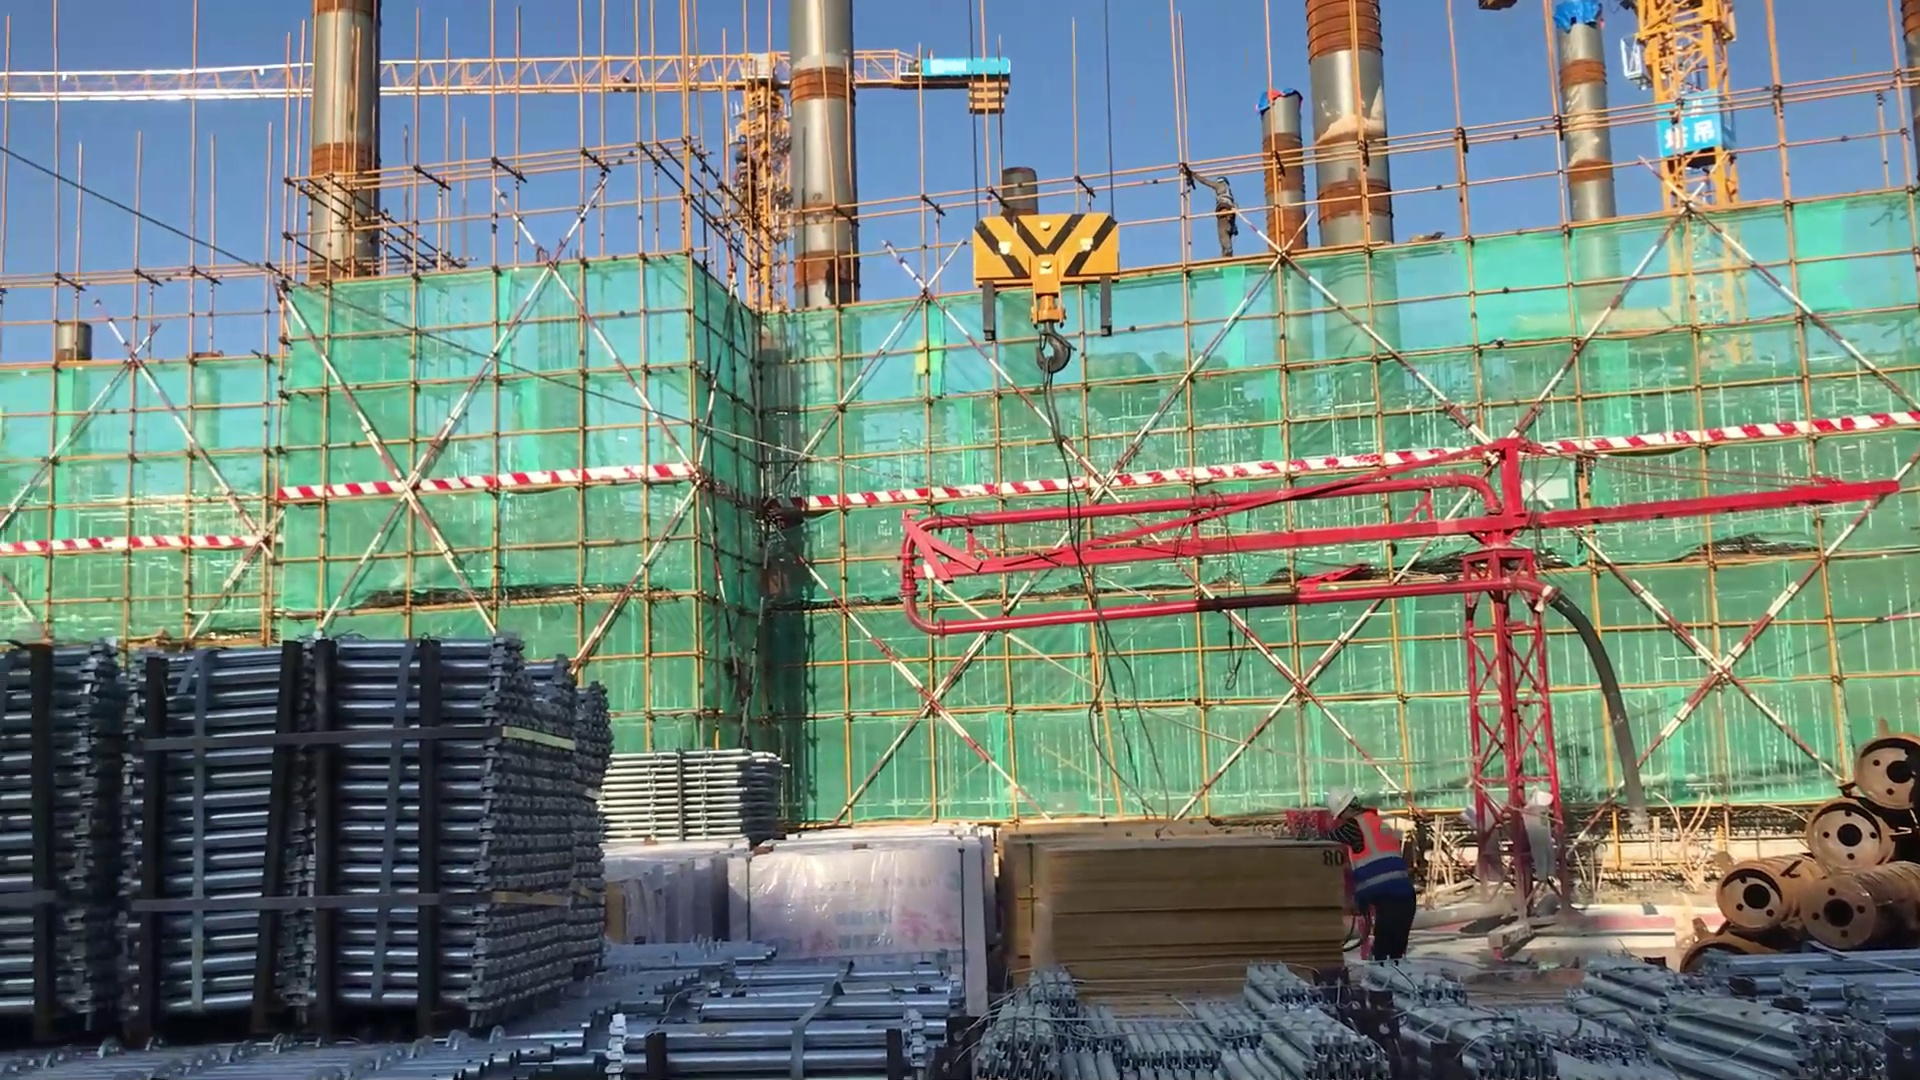board: (994, 824, 1345, 998)
helmet: (1320, 789, 1363, 818), (1216, 174, 1231, 188)
hook: (952, 209, 1144, 387)
person: (1307, 785, 1433, 980), (1174, 153, 1244, 274)
scaffold: (1, 628, 609, 1080), (976, 966, 1558, 1080), (600, 932, 986, 1080), (1581, 939, 1917, 1080), (608, 746, 795, 853)
slogan: (1651, 95, 1734, 160)
vest: (1343, 812, 1420, 909)
